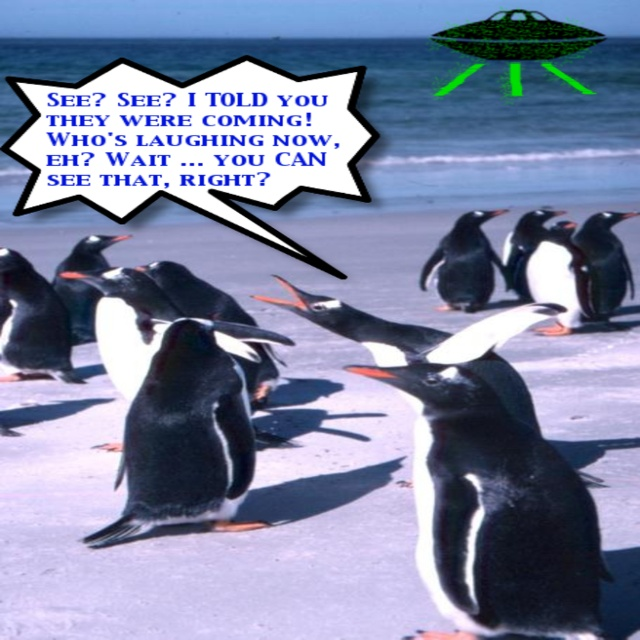Penguin: (0, 206, 640, 640)
